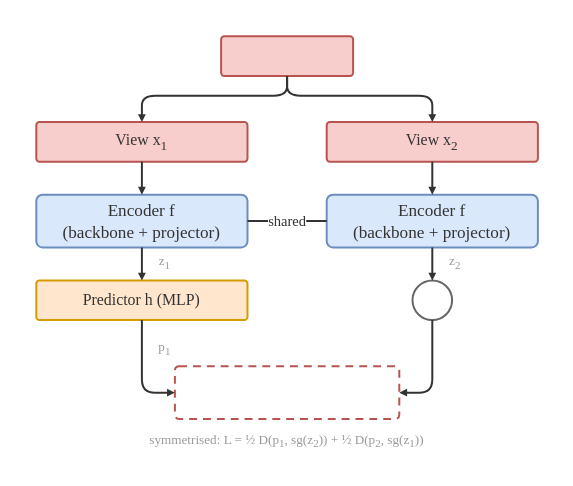
Some shapes in this 573 by 486 pixel diagram are drawn without their labels. Here are the shapes that lost their labels. From the top down, the centre of each, then its label:
(286,55): Input x
(431,299): sg
(286,392): Negative cosine similarity D(p 1 , sg(z 2 ))
